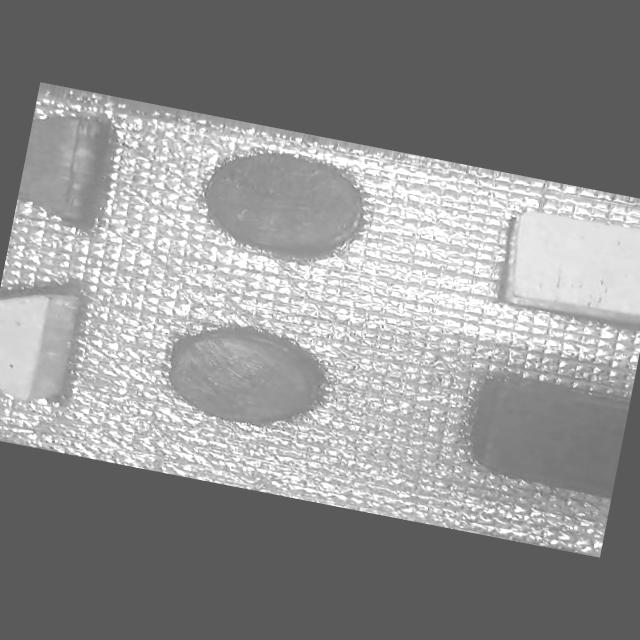bcircle: (184, 128, 393, 282)
bcube: (449, 360, 632, 506)
rcircle: (154, 308, 340, 441)
ycube: (485, 197, 640, 333)
